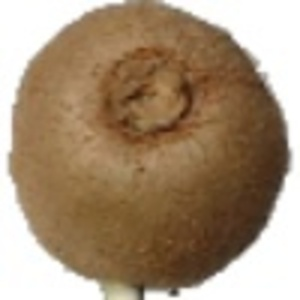kiwi: (2, 1, 292, 300)
